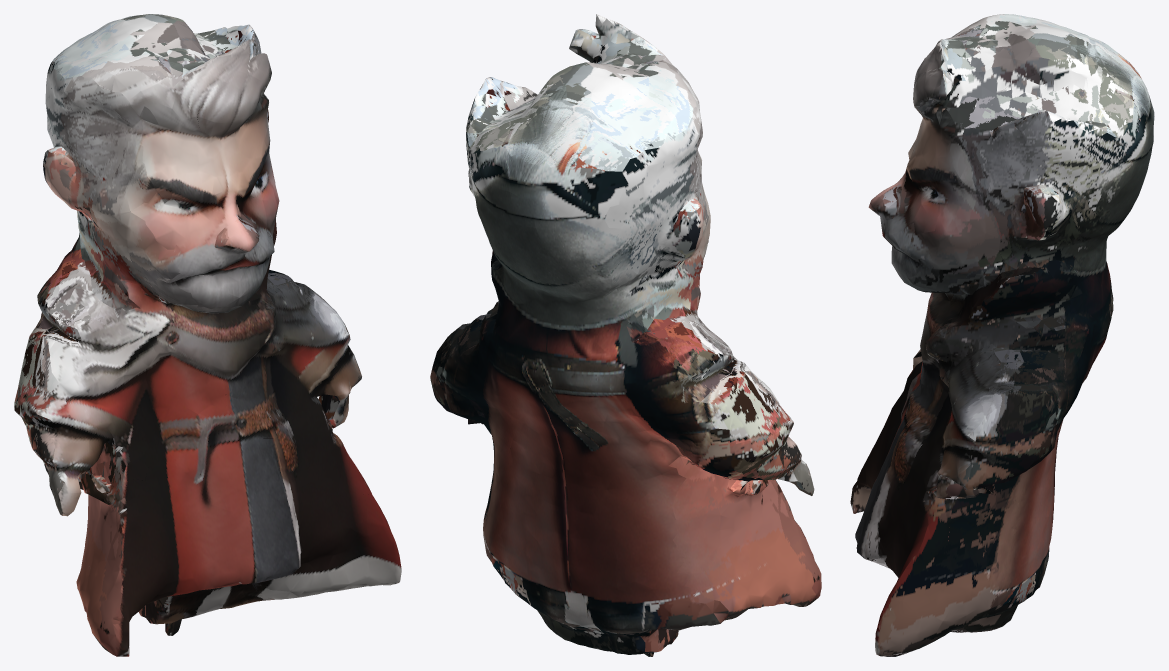
File: trainer.fbx
3 views of the same model, side by side, from view 1: azimuth 30°, elevation 25°; view 2: azimuth 150°, elevation 25°; view 3: azimuth 270°, elevation 25° (orthographic). The views are drawn at different scales.
Visible parts, largest first — view 1: geometry_0; view 2: geometry_0; view 3: geometry_0.
Boxes of the visible parts, left/top/right/bottom form: geometry_0: left=14, top=14, right=401, bottom=656; geometry_0: left=430, top=14, right=821, bottom=656; geometry_0: left=850, top=14, right=1154, bottom=656.
Bounding box in the file's own units: 55.36 × 95.14 × 44.35.
Materials: 1 (1 with a texture image).
